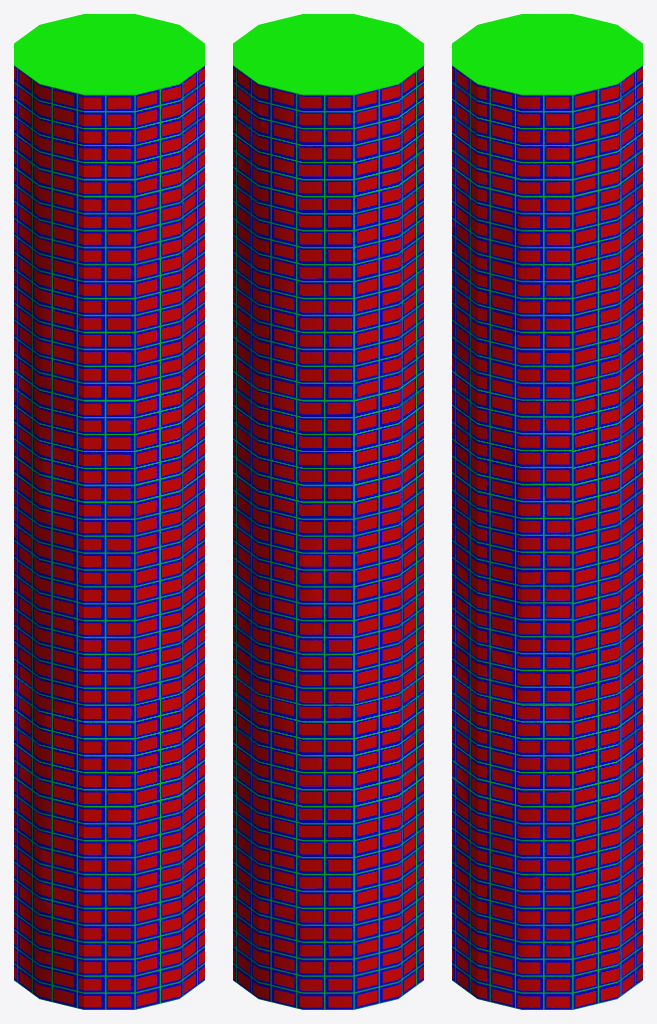
The model's file is BuildingE.fbx.
3 renders of one model, left to right at view 1: azimuth 30°, elevation 25°; view 2: azimuth 150°, elevation 25°; view 3: azimuth 270°, elevation 25°, orthographic.
Visible parts, largest first — view 1: Building_E; view 2: Building_E; view 3: Building_E.
Boxes of the visible parts, x1=… form: Building_E: x1=14, y1=14, x2=204, y2=1009; Building_E: x1=233, y1=14, x2=423, y2=1009; Building_E: x1=452, y1=14, x2=642, y2=1009.
Size of what is drawn, in the model's own units: 22.68 by 22.68 by 120.
1 material, 1 textured.
